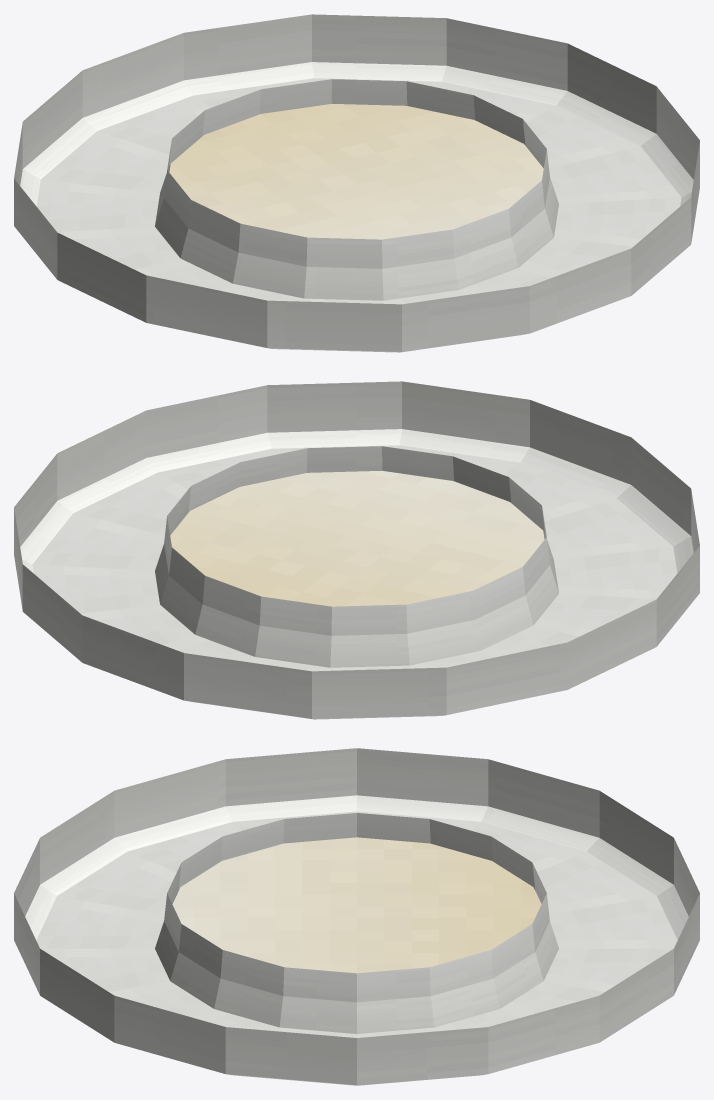
File: ceiling_halo.obj
3 views of the same model, one above another, from view 1: azimuth 30°, elevation 25°; view 2: azimuth 150°, elevation 25°; view 3: azimuth 270°, elevation 25° (orthographic).
Visible parts, largest first — view 1: ceiling_halo; view 2: ceiling_halo; view 3: ceiling_halo.
Part boxes in pixels (x1,y1,x2,y2): ceiling_halo: [14, 14, 699, 352]; ceiling_halo: [14, 381, 699, 719]; ceiling_halo: [14, 748, 699, 1085].
Size of the model in its own units: 0.7 by 0.0625 by 0.7.
